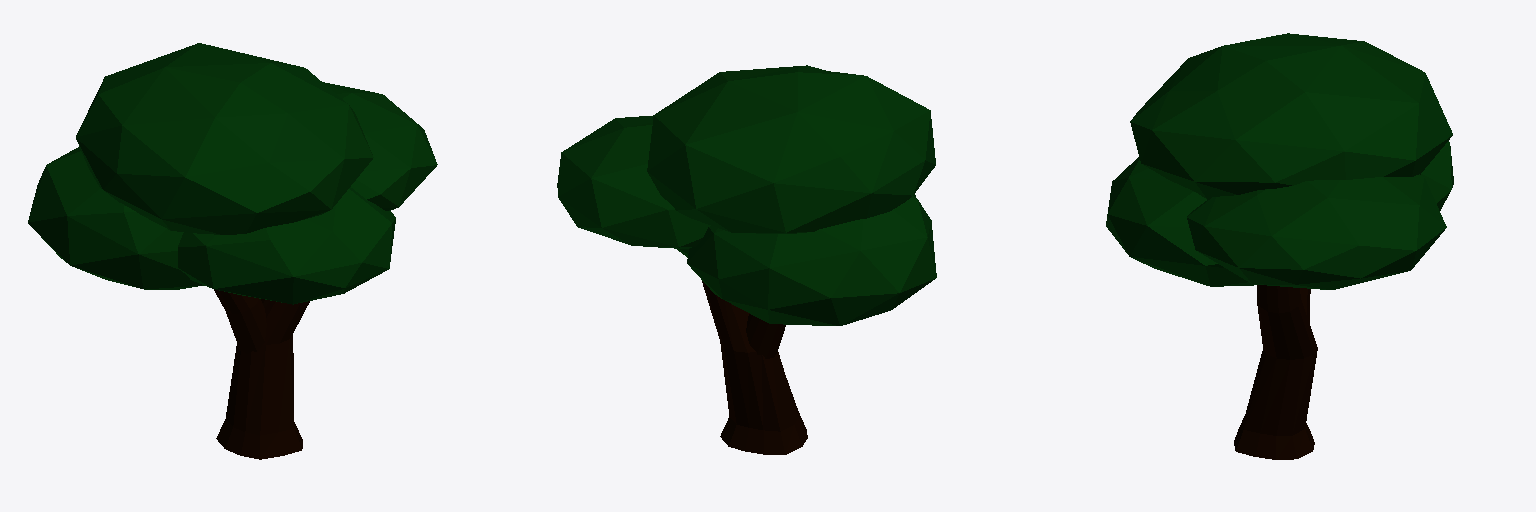
Rendered from Tree_B.obj.
The picture shows the model from 3 angles: view 1: azimuth 30°, elevation 25°; view 2: azimuth 150°, elevation 25°; view 3: azimuth 270°, elevation 25°; orthographic projection.
Parts seen in each view (by area): view 1: pSolid1 Tree_B, Tree_B pSolid4, Tree_B pSolid3, Tree_B pCylinder57, Tree_B pSolid2, Tree_B pCylinder58; view 2: pSolid1 Tree_B, Tree_B pSolid3, Tree_B pSolid2, Tree_B pCylinder57, Tree_B pCylinder58; view 3: pSolid1 Tree_B, Tree_B pSolid2, Tree_B pCylinder57, Tree_B pSolid4, Tree_B pSolid3.
Boxes of the visible parts, x1=… form: pSolid1 Tree_B: x1=76, y1=43, x2=373, y2=234; Tree_B pSolid4: x1=178, y1=187, x2=395, y2=304; Tree_B pSolid3: x1=28, y1=147, x2=203, y2=289; Tree_B pCylinder57: x1=216, y1=299, x2=309, y2=459; Tree_B pSolid2: x1=323, y1=82, x2=437, y2=210; Tree_B pCylinder58: x1=214, y1=289, x2=266, y2=353; pSolid1 Tree_B: x1=647, y1=65, x2=935, y2=233; Tree_B pSolid3: x1=687, y1=196, x2=936, y2=325; Tree_B pSolid2: x1=557, y1=115, x2=710, y2=248; Tree_B pCylinder57: x1=702, y1=281, x2=807, y2=454; Tree_B pCylinder58: x1=746, y1=314, x2=785, y2=358; pSolid1 Tree_B: x1=1130, y1=33, x2=1452, y2=199; Tree_B pSolid2: x1=1187, y1=174, x2=1446, y2=289; Tree_B pCylinder57: x1=1234, y1=285, x2=1317, y2=459; Tree_B pSolid4: x1=1106, y1=157, x2=1253, y2=286; Tree_B pSolid3: x1=1421, y1=141, x2=1453, y2=210.
Bounding box in the file's own units: 11.04 × 10.79 × 9.25.